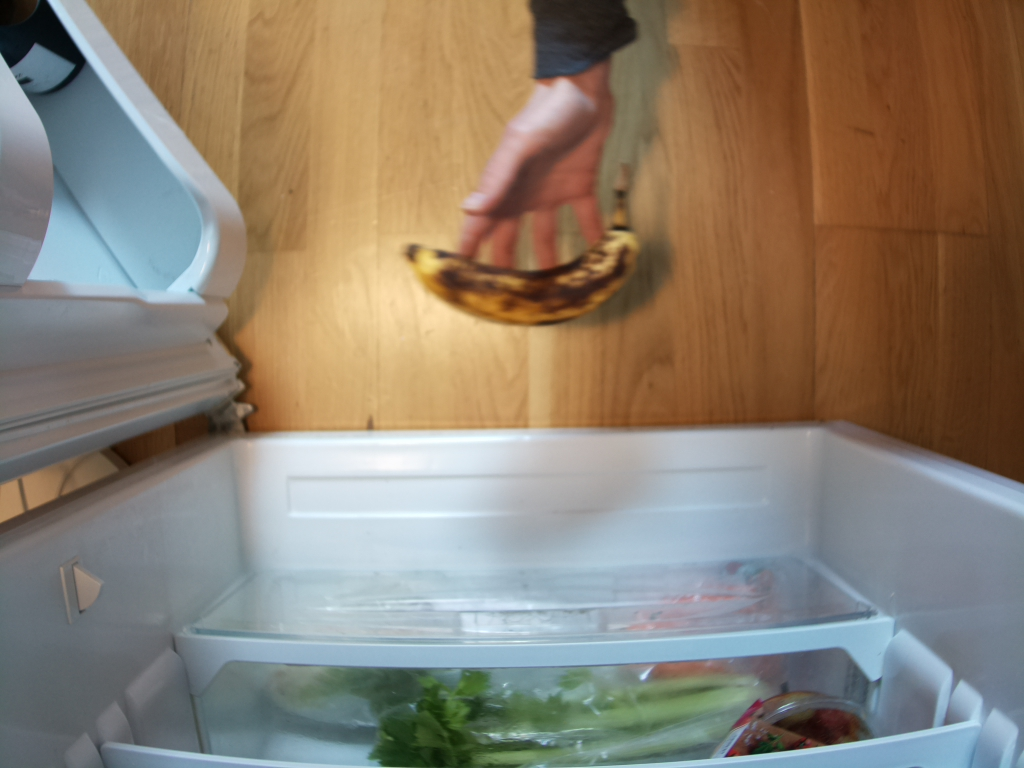banana-overripe: (408, 163, 645, 328)
